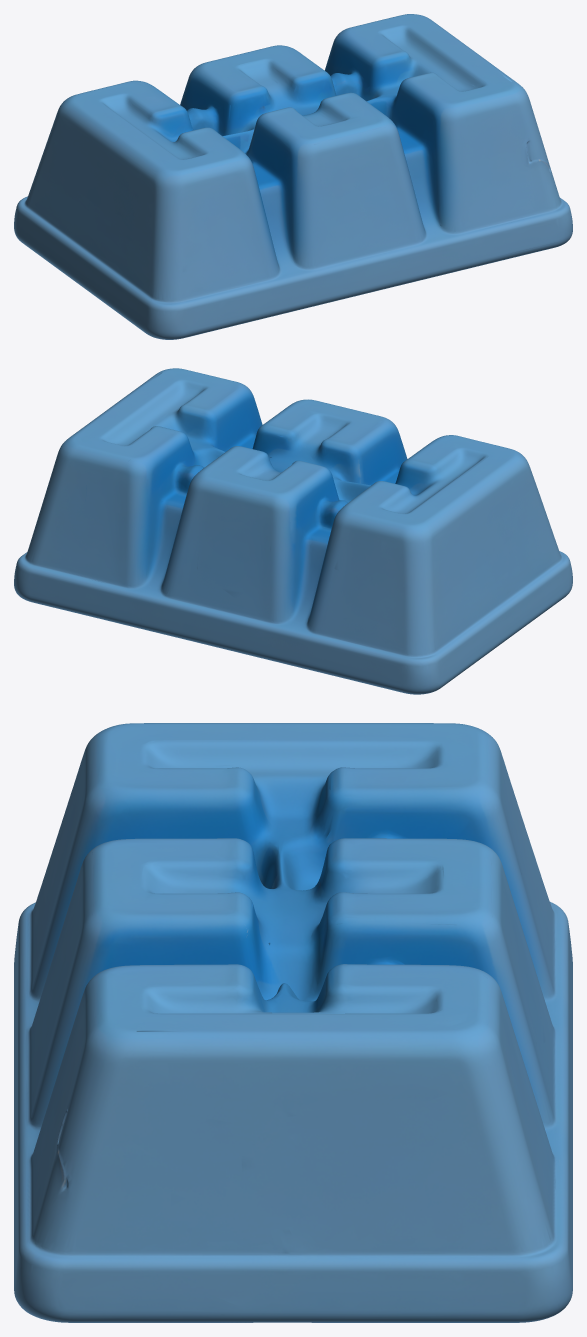
File: Plastic.fbx
3 views of the same model, one above another, from view 1: azimuth 30°, elevation 25°; view 2: azimuth 150°, elevation 25°; view 3: azimuth 270°, elevation 25° (orthographic). The views are drawn at different scales.
Visible parts, largest first — view 1: node_0; view 2: node_0; view 3: node_0.
Boxes of the visible parts, left/top/right/bottom form: node_0: left=14, top=14, right=572, bottom=339; node_0: left=14, top=368, right=572, bottom=694; node_0: left=14, top=723, right=572, bottom=1322.
Size of the model in its own units: 102 by 33.76 by 64.59.
Materials: 1 (1 with a texture image).
